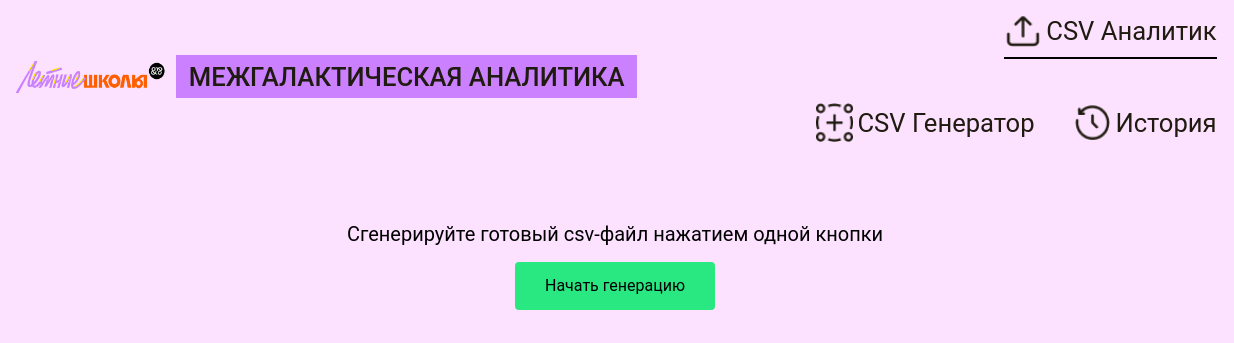
Страница генератора CSV (CsvGeneratorPage) › отображает сообщение об ошибке при неудаче генерации
Click the button "Начать генерацию" at (615, 286), box [515,262,715,310]
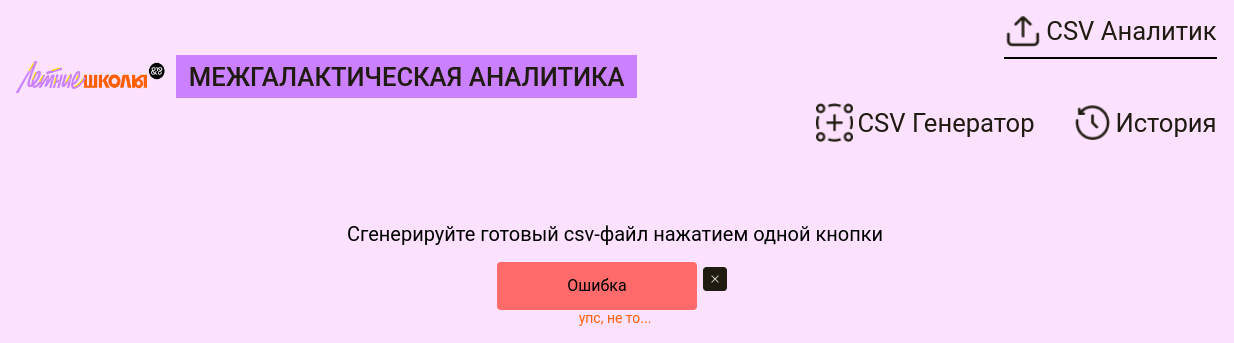
Now the text "упс, не то..." is shown, box [579,310,651,326]
